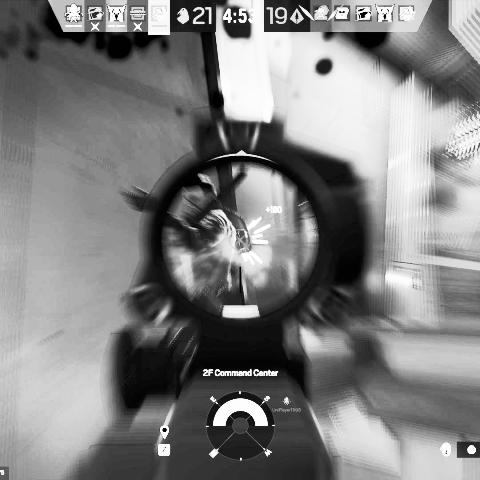Character: (123, 175, 244, 332)
Head: (178, 181, 218, 224)
